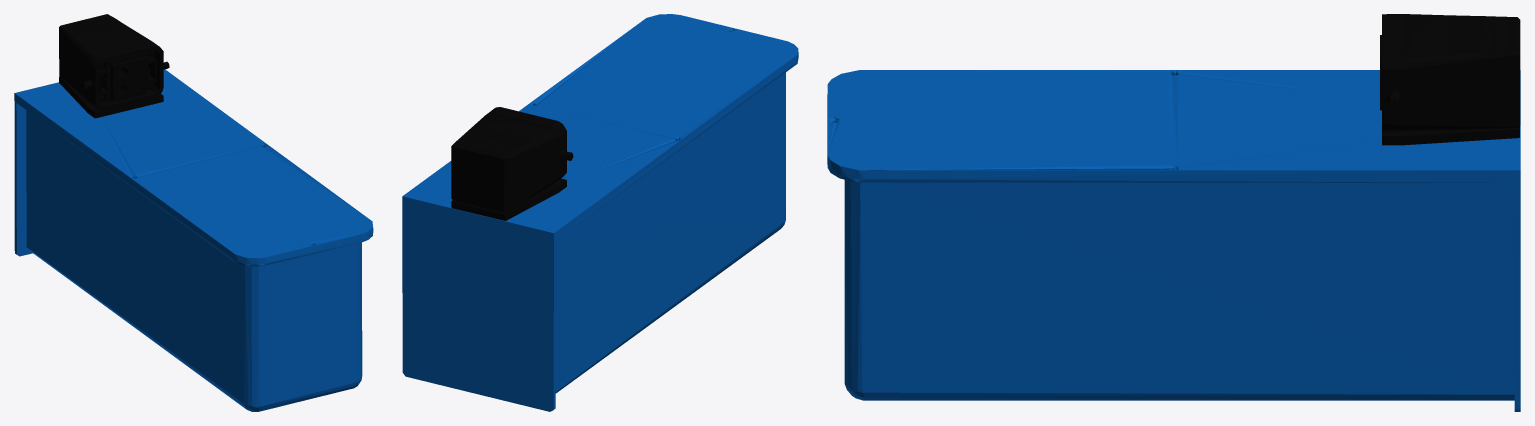
Rendered from battery.dae.
The picture shows the model from 3 angles, left to right: view 1: azimuth 30°, elevation 25°; view 2: azimuth 150°, elevation 25°; view 3: azimuth 270°, elevation 25°; orthographic projection. The views are drawn at different scales.
Visible parts, largest first — view 1: Bat; view 2: Bat; view 3: Bat.
Part boxes in pixels (bbox=[...]): Bat: bbox=[14, 14, 373, 411]; Bat: bbox=[402, 14, 798, 411]; Bat: bbox=[827, 14, 1520, 411].
Size of the model in its own units: 0.12 by 0.35 by 0.184.
Materials: 1 (1 with a texture image).
